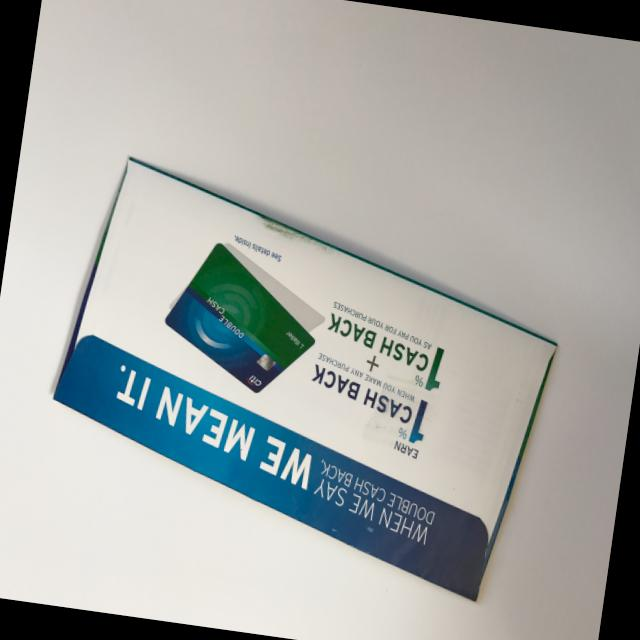Paper: (20, 104, 606, 640)
